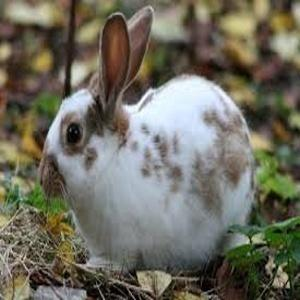rabbit: (39, 6, 254, 270)
